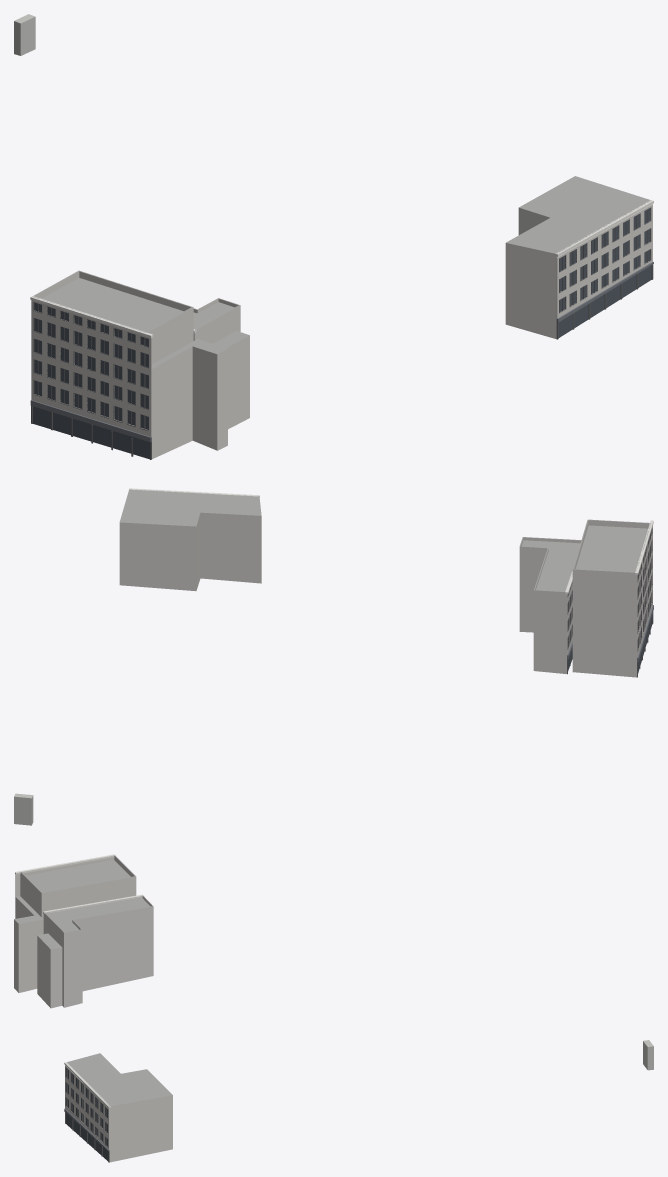
Rendered from d21-neighborhood-pack.glb.
3 renders of one model, top to bottom at view 1: azimuth 30°, elevation 25°; view 2: azimuth 150°, elevation 25°; view 3: azimuth 270°, elevation 25°, orthographic. The views are drawn at different scales.
Visible parts, largest first — view 1: PLATEAU_shell.001, INFERRED_facade.001; view 2: PLATEAU_shell.001, INFERRED_facade.001; view 3: PLATEAU_shell.001, INFERRED_facade.001.
Part boxes in pixels (x1,y1,x2,y2): PLATEAU_shell.001: (14,14,651,459); INFERRED_facade.001: (30,200,653,459); PLATEAU_shell.001: (14,489,650,825); INFERRED_facade.001: (129,488,653,677); PLATEAU_shell.001: (14,855,653,1162); INFERRED_facade.001: (15,854,143,1162).
Bounding box in the file's own units: 106 × 22.48 × 133.
Materials: 3 (2 with a texture image).
